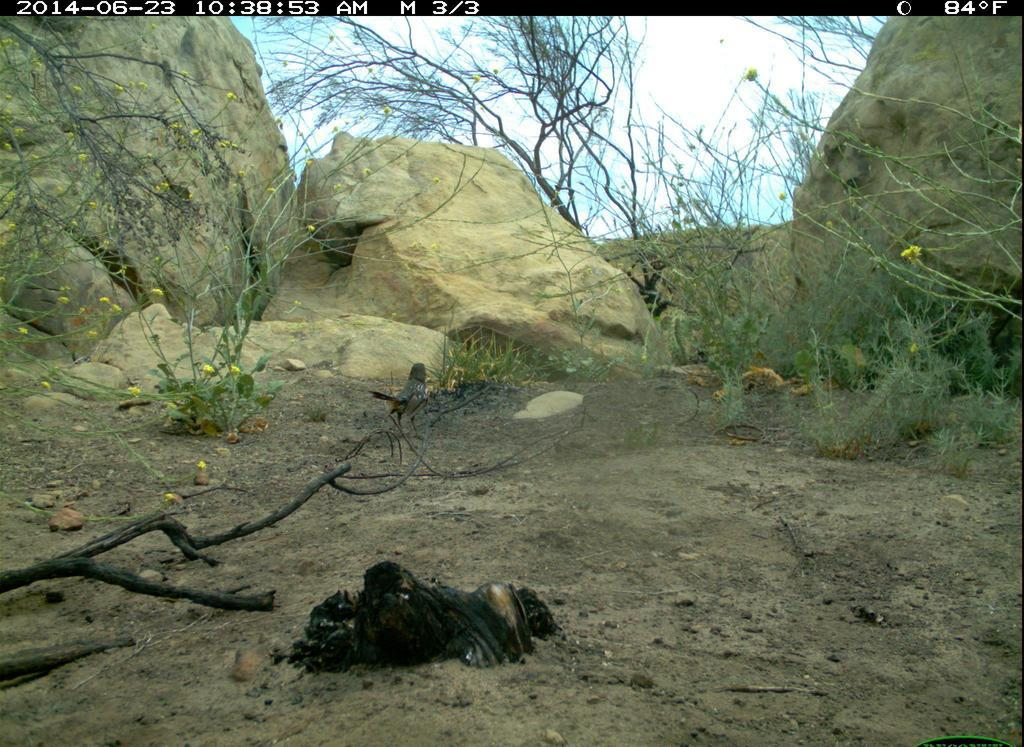bird: (363, 354, 450, 455)
